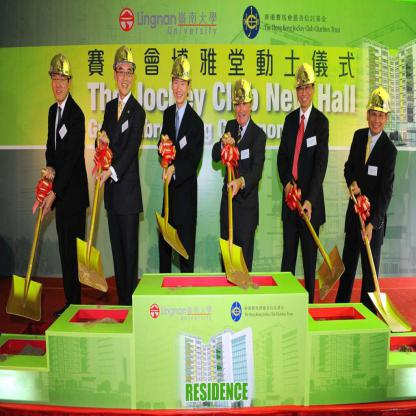face: (117, 66, 134, 96), (298, 80, 314, 107), (370, 107, 386, 134), (53, 75, 69, 102), (174, 78, 189, 104), (236, 103, 251, 125)
